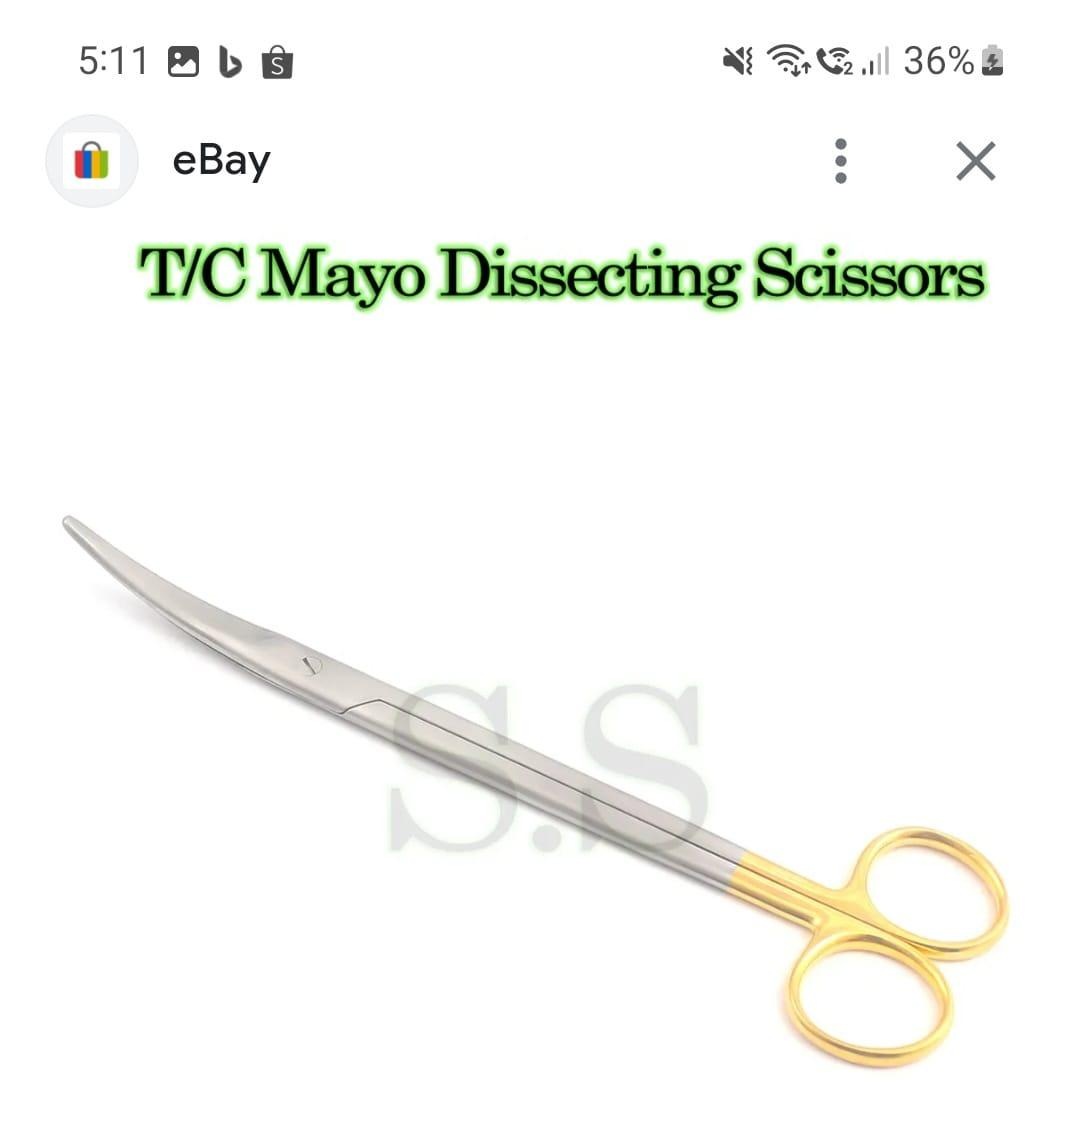Curved Mayo: (52, 490, 1011, 1066)
